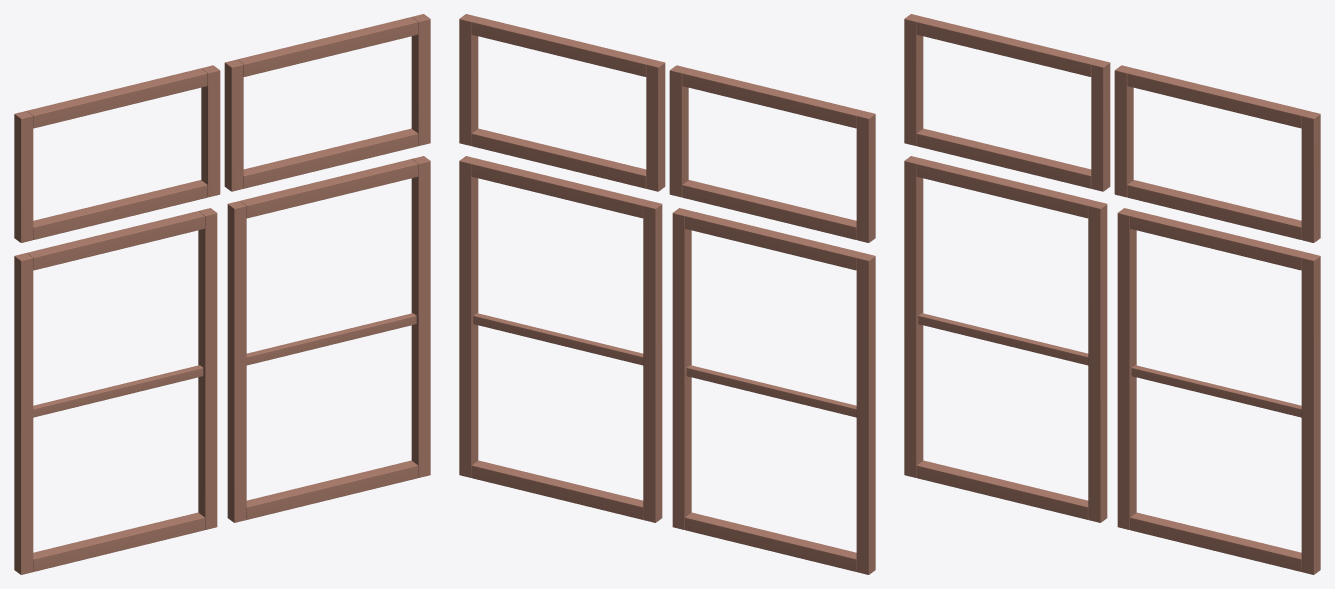
The model's file is window-sash.glb.
3 views of the same model, side by side, from view 1: azimuth 30°, elevation 25°; view 2: azimuth 150°, elevation 25°; view 3: azimuth 330°, elevation 25° (orthographic).
Visible parts, largest first — view 1: window-sash; view 2: window-sash; view 3: window-sash.
Boxes of the visible parts, x1,y1,x2,y2 form: window-sash: (14, 14, 430, 574); window-sash: (459, 14, 875, 574); window-sash: (904, 14, 1320, 574).
Bounding box in the file's own units: 1.48 × 1.57 × 0.044.
